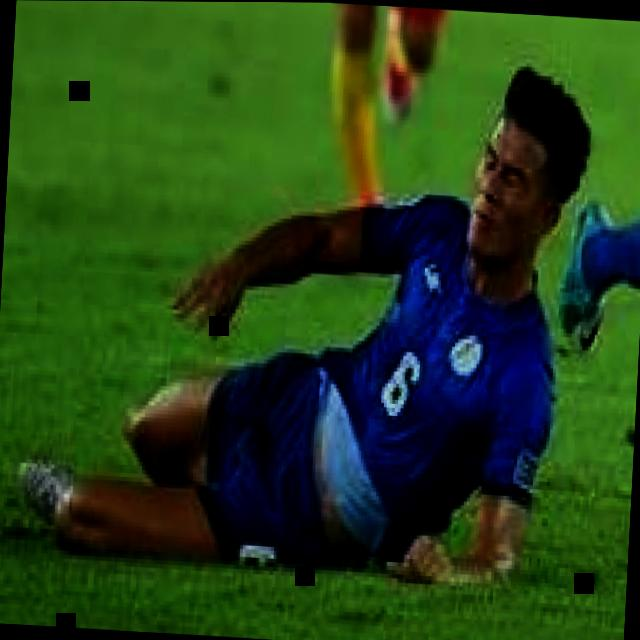Fall-Detected: (0, 4, 593, 571)
